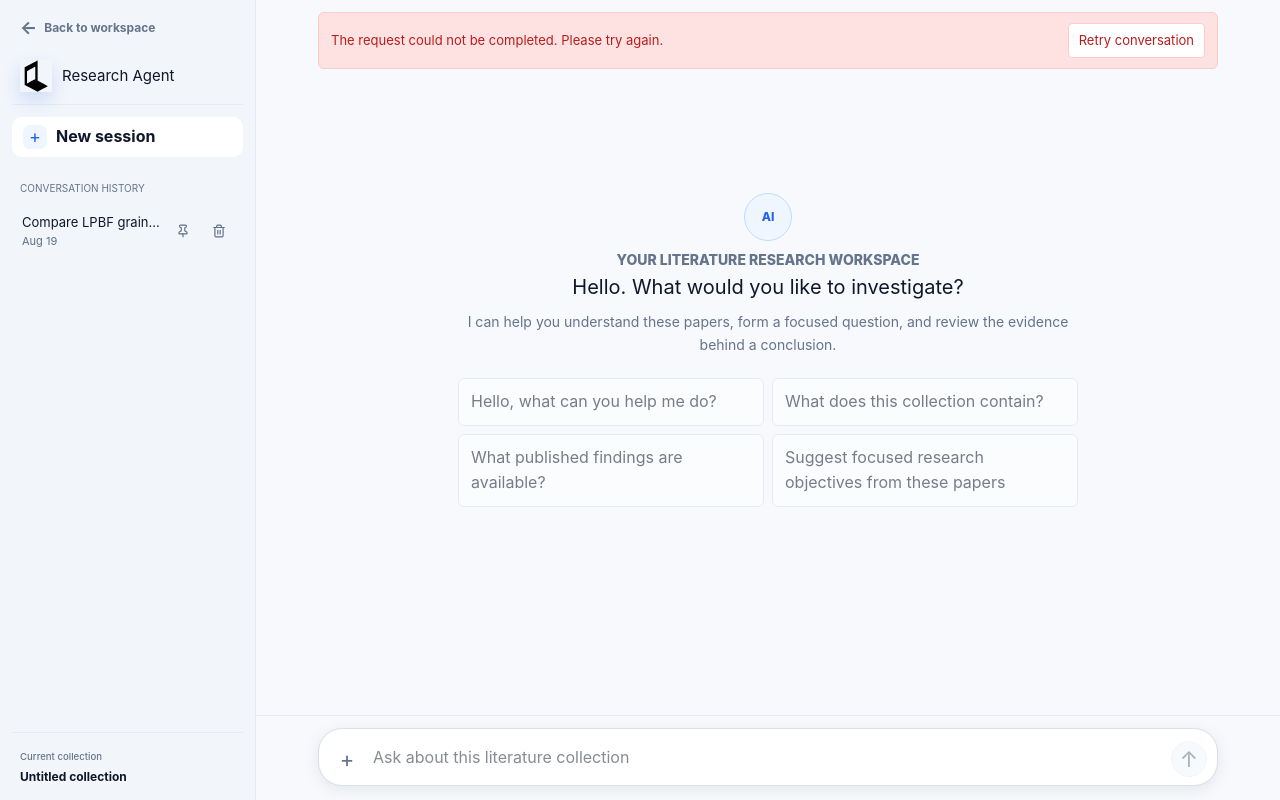
it: collections/[id]/assistant Research Agent › retains the selected conversation after 503 and retries it
The image size is (1280, 800).
Check: the message "The request could not be completed. Please try again. Retry conversation" is shown, box [318, 12, 1218, 69]
Click the button "Retry conversation": (1136, 40) [1068, 23, 1205, 58]
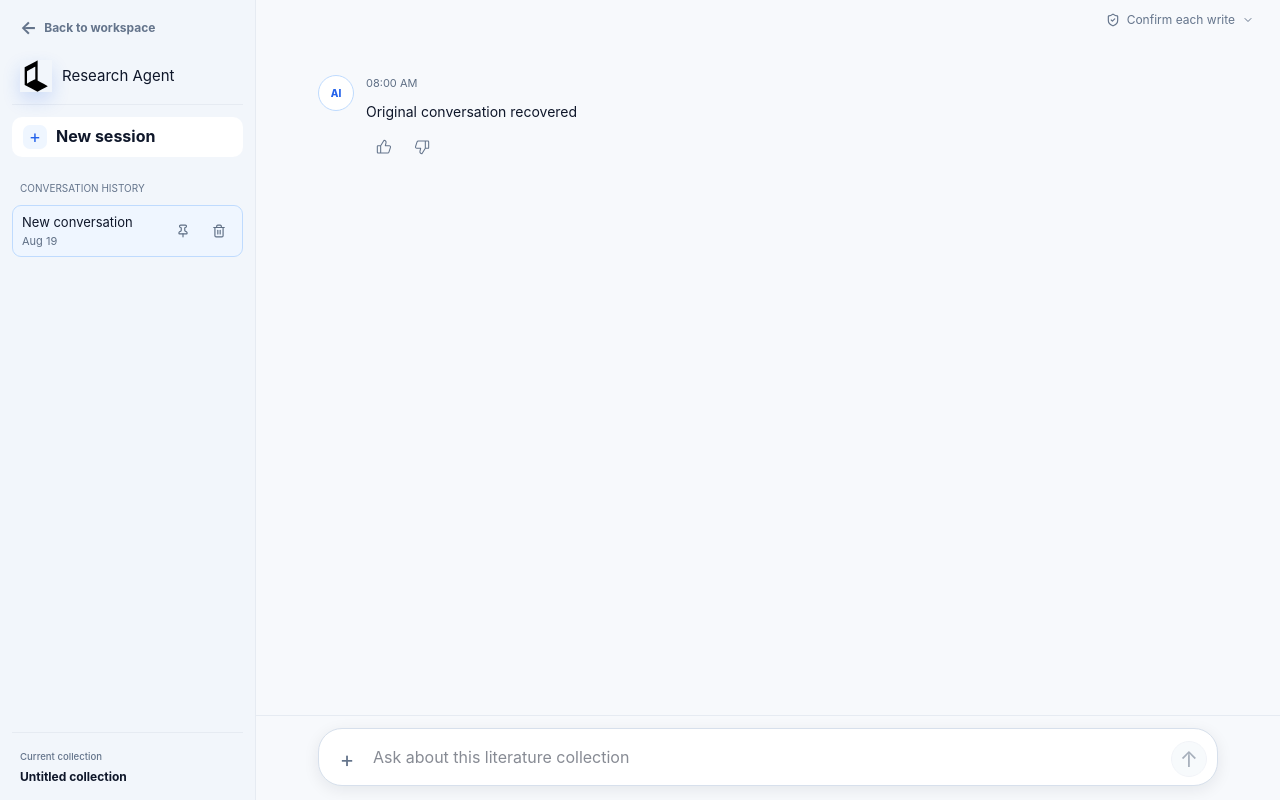
Check: the text box named "Message" is enabled, box [373, 737, 1163, 777]
Check: the text "Original conversation recovered" is shown, box [366, 103, 577, 120]
